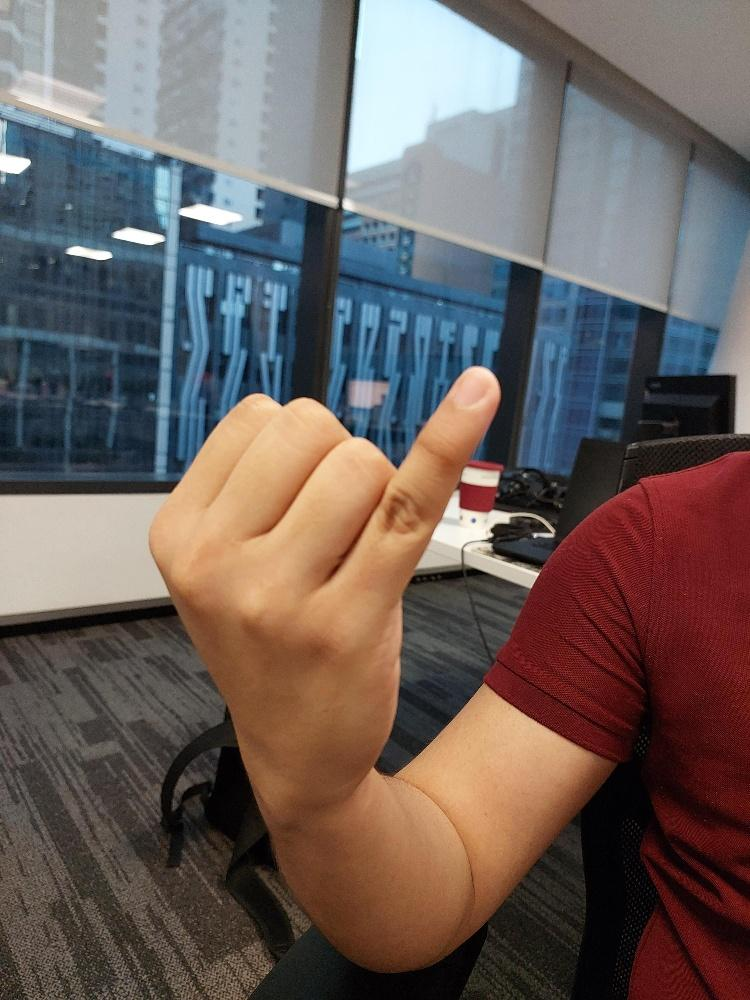j: (145, 360, 501, 810)
